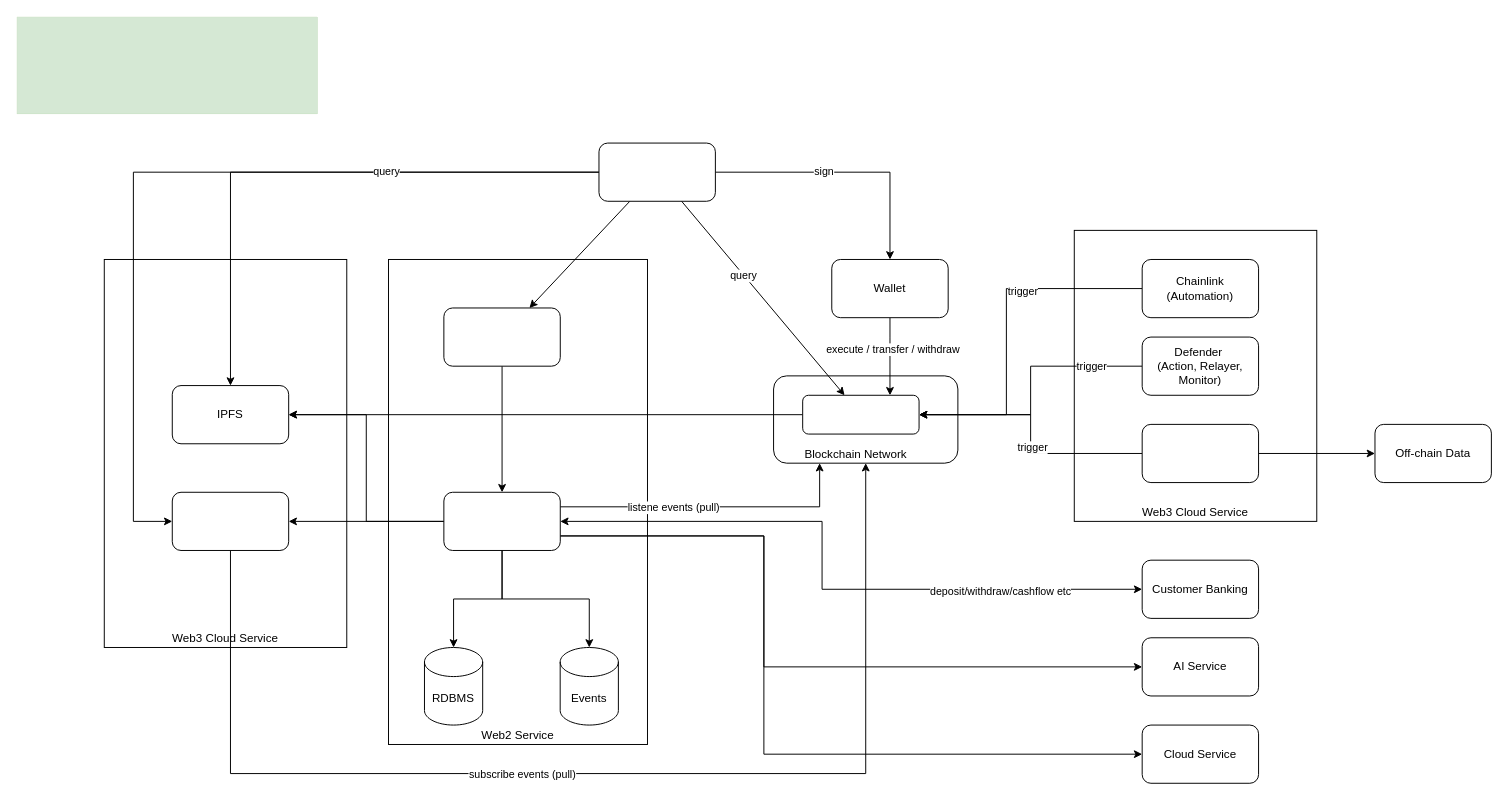
The diagram is 1508 pixels wide and 800 high, and some of its shapes have lost their labels. The centre of each missing label's shape, as x and y in pixels:
API Gateway: [501,336]
Gelato (Web3 Function) (Oracle): [1200,453]
Smart Contract: [860,414]
TheGraph: [230,520]
VBank Application Architecture: [166,64]
VBank Micro Services （Account, Report, Cash etc): [501,520]
VBank Mobile & Web App: [656,171]
